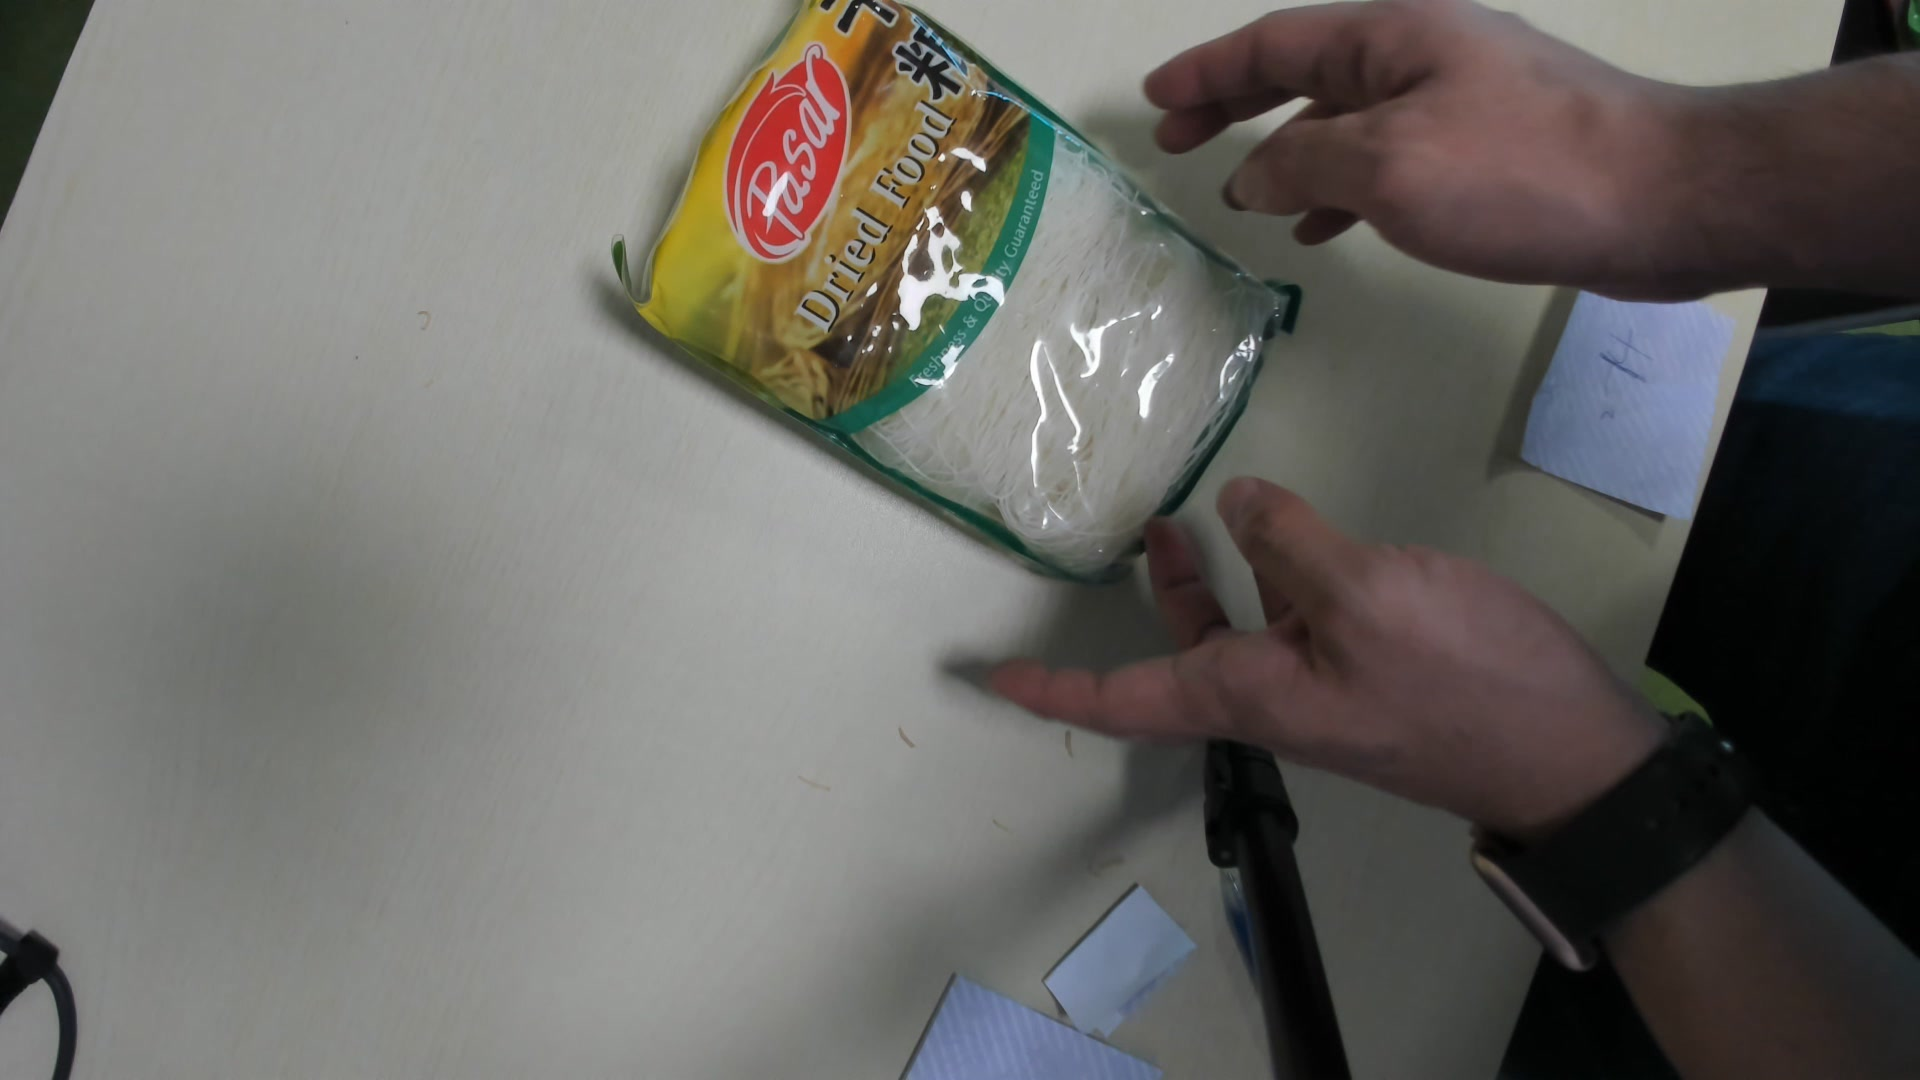BeeHoonVermicelli_100-199g_NonHalal_NonHealthy: (608, 8, 1298, 600)
